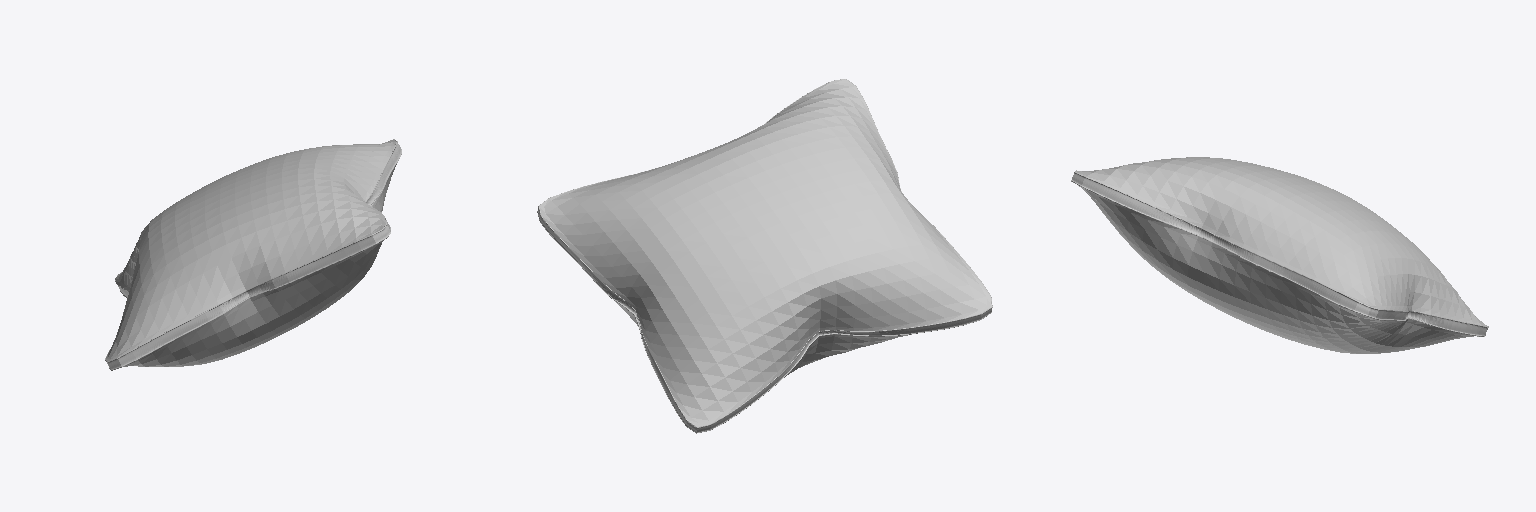
The model's file is pillow.obj.
3 renders of one model, left to right at view 1: azimuth 30°, elevation 25°; view 2: azimuth 150°, elevation 25°; view 3: azimuth 270°, elevation 25°, orthographic.
Visible parts, largest first — view 1: pCube2; view 2: pCube2; view 3: pCube2.
Boxes of the visible parts, box(x1,y1,x2,y2) form: pCube2: box(105, 139, 401, 370); pCube2: box(537, 79, 992, 433); pCube2: box(1071, 157, 1488, 353).
Size of the model in its own units: 19.05 by 9.37 by 18.45.